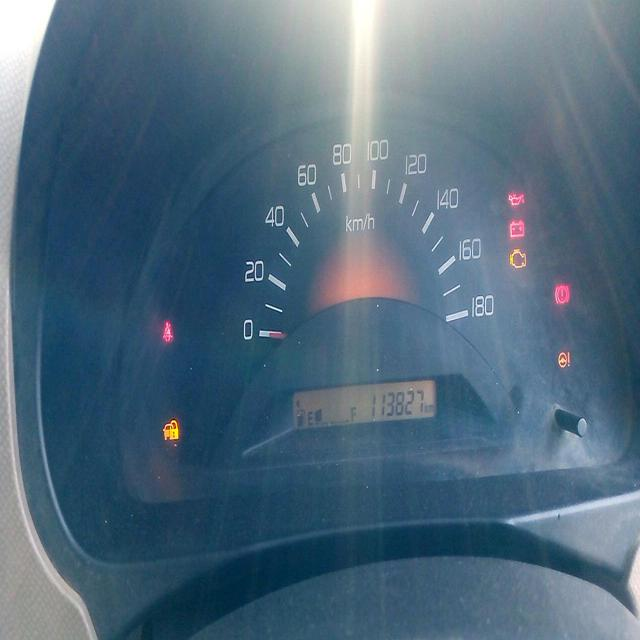odometer: (368, 384, 427, 420)
